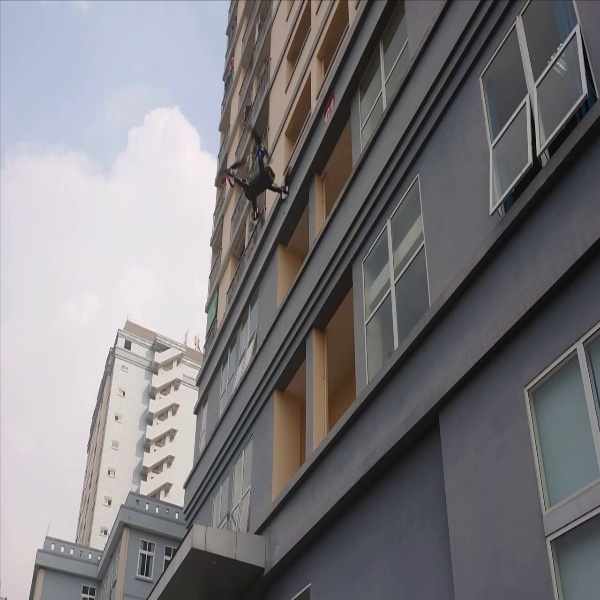drone: (212, 128, 297, 230)
